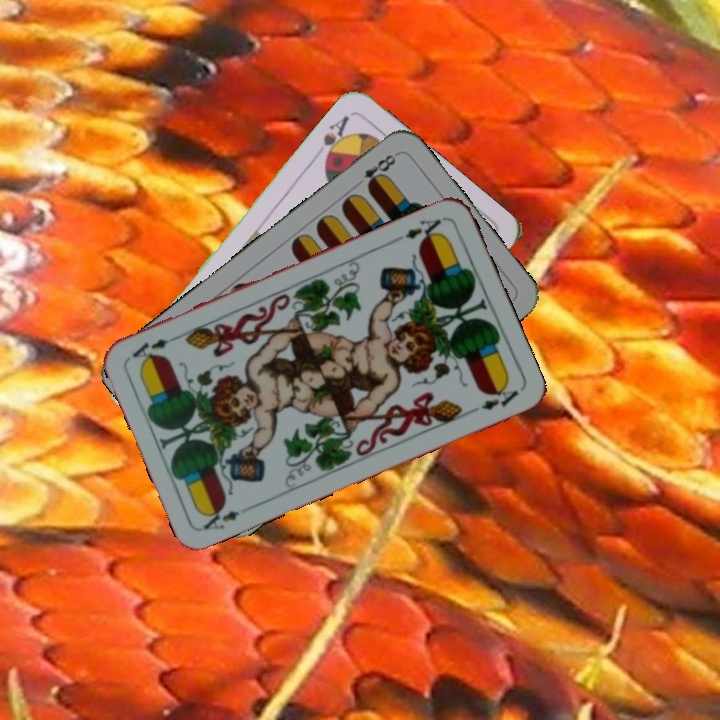E8: (359, 149, 400, 192)
EA: (198, 502, 255, 533), (391, 215, 445, 246)
SA: (319, 111, 353, 166)
